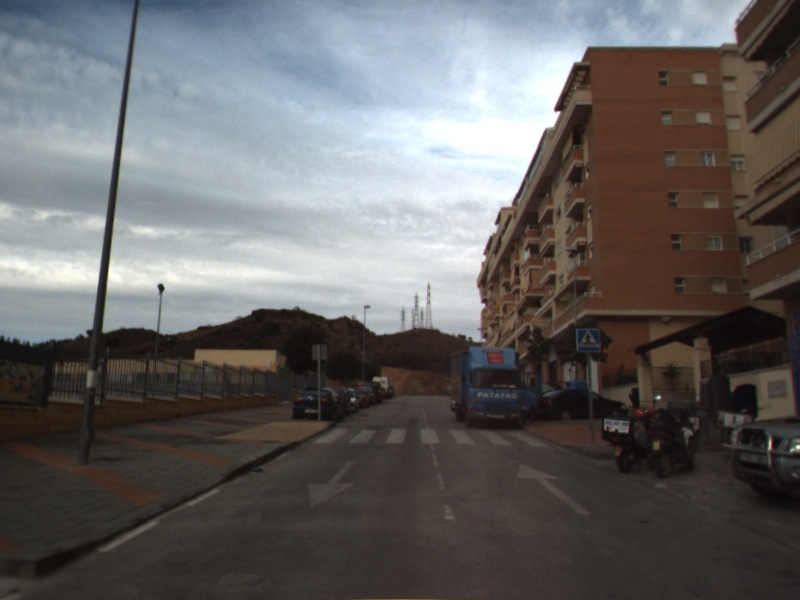STRAIGHT: (515, 460, 594, 517)
